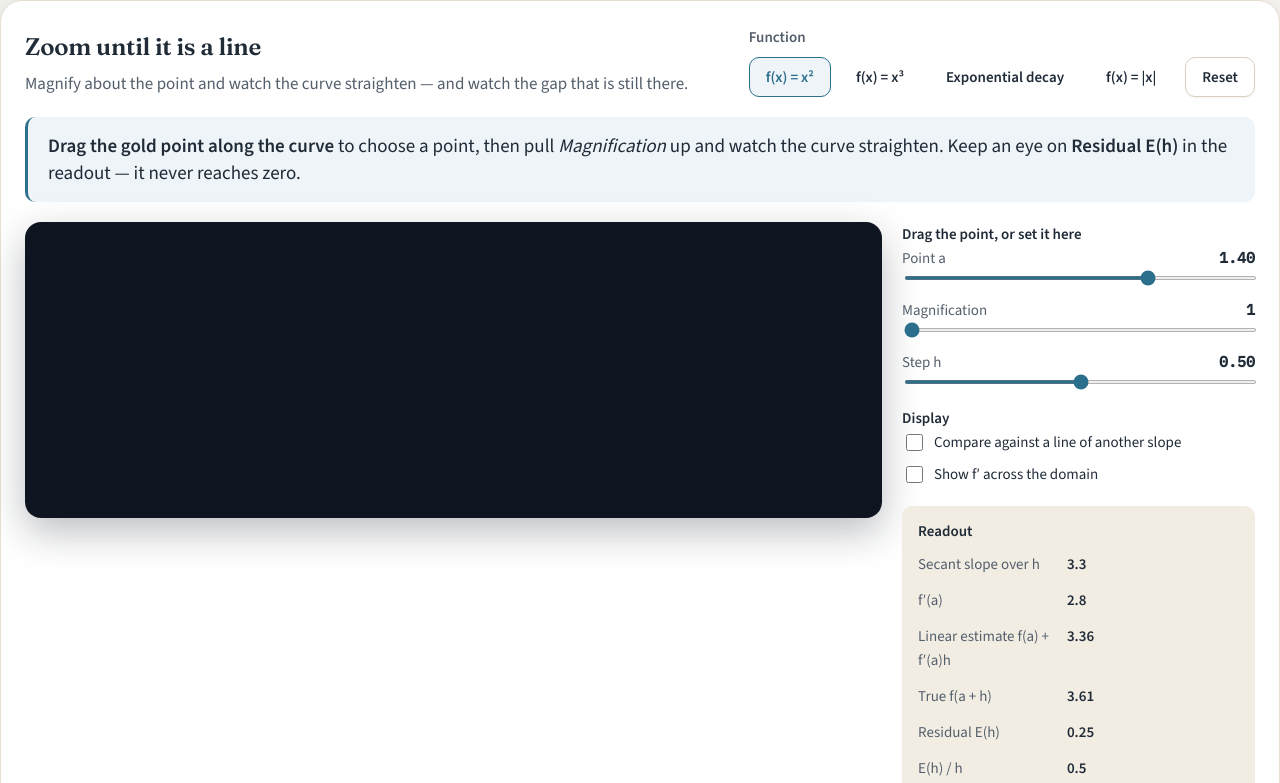
Test: no fabricated derivative at a corner › says so on screen, and offers no f′(a) number
The width and height of the screenshot is (1280, 783).
Click the button "f(x) = |x|": (1131, 77) [1089,57,1173,97]
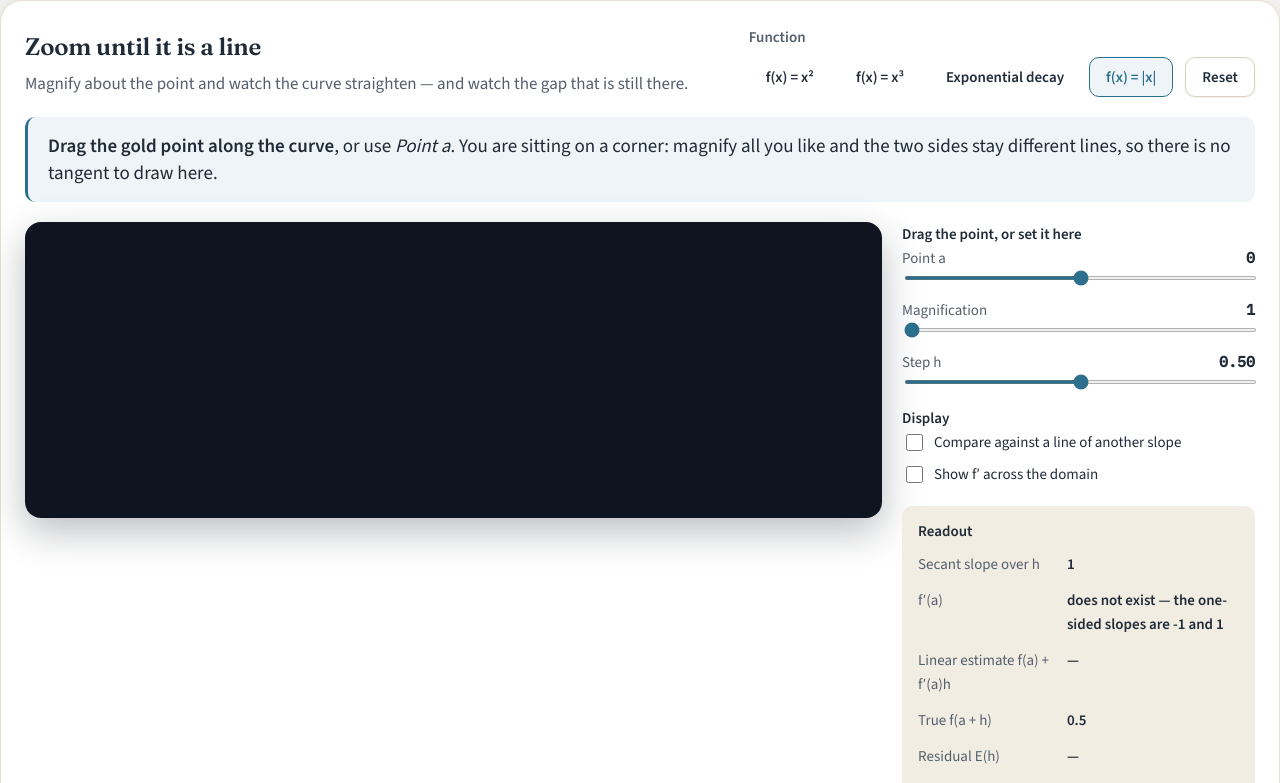
Now the text "does not exist" is shown, box [1067,590,1227,634]
Now the text "does not exist — the one-sided slopes are -1 and 1" is shown, box [1067,588,1239,636]
